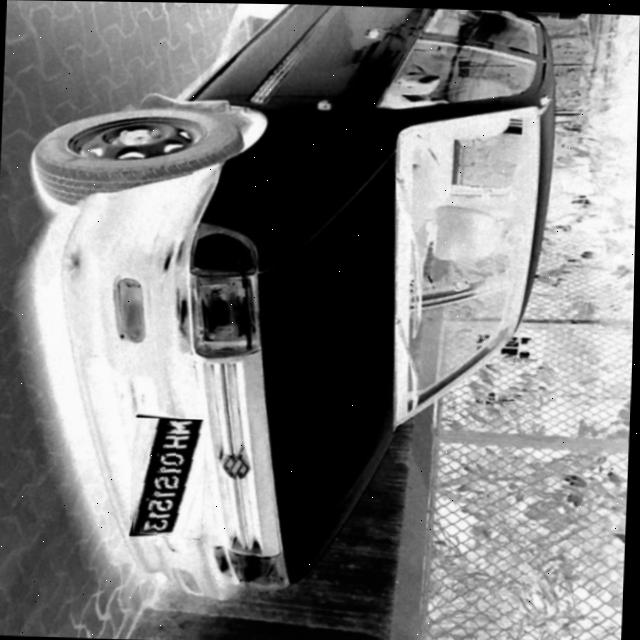Non_registered: (130, 417, 206, 537)
